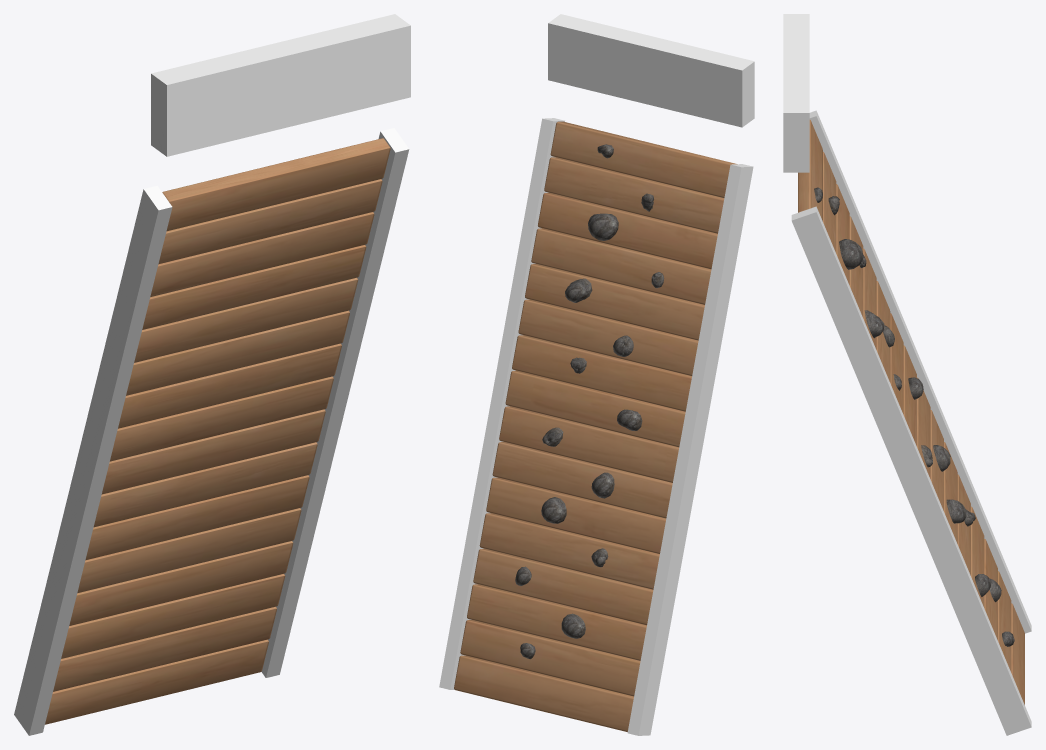
The picture shows the model from 3 angles, left to right: view 1: azimuth 30°, elevation 25°; view 2: azimuth 150°, elevation 25°; view 3: azimuth 270°, elevation 25°; orthographic projection. The views are drawn at different scales.
Visible parts, largest first — view 1: Cube199_2, Cube199_1, joint,0,8; view 2: Cube199_2, Cube199_1, joint,0,8, Cube199; view 3: Cube199_1, Cube199_2, joint,0,8, Cube199.
Boxes of the visible parts, x1=… form: Cube199_2: x1=45, y1=138, x2=390, y2=724; Cube199_1: x1=14, y1=128, x2=409, y2=735; joint,0,8: x1=151, y1=14, x2=410, y2=156; Cube199_2: x1=454, y1=121, x2=737, y2=731; Cube199_1: x1=439, y1=118, x2=753, y2=735; joint,0,8: x1=548, y1=14, x2=754, y2=127; Cube199: x1=515, y1=144, x2=664, y2=659; Cube199_1: x1=791, y1=110, x2=1031, y2=735; Cube199_2: x1=798, y1=120, x2=1024, y2=704; joint,0,8: x1=783, y1=14, x2=809, y2=172; Cube199: x1=814, y1=187, x2=1014, y2=646.
Bounding box in the file's own units: 0.9144 × 2.61 × 0.9446.
4 materials, 2 textured.
